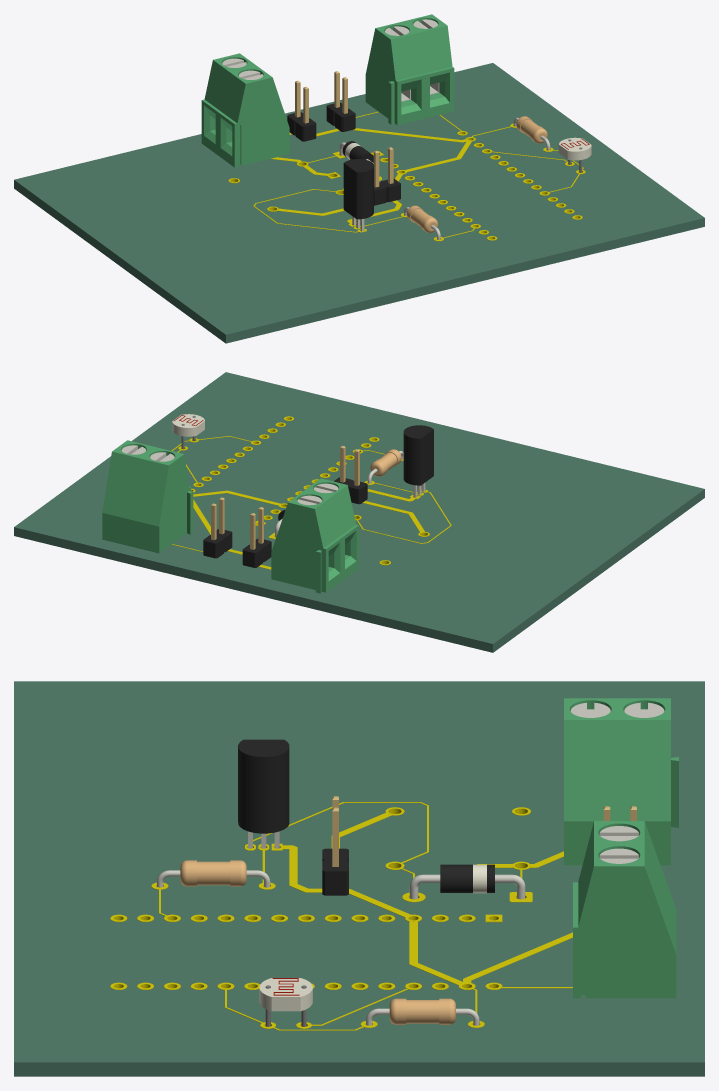
Rendered from project.glb.
3 renders of one model, top to bottom at view 1: azimuth 30°, elevation 25°; view 2: azimuth 150°, elevation 25°; view 3: azimuth 270°, elevation 25°, orthographic. The views are drawn at different scales.
Parts seen in each view (by area): view 1: =>[0:1:1:9], SW2, SW1, =>[0:1:1:8], Q1, J1, J2, LA1, R2, R1, R3; view 2: =>[0:1:1:9], SW2, SW1, =>[0:1:1:8], Q1, J2, J1, LA1, R2, R3; view 3: =>[0:1:1:9], SW2, SW1, =>[0:1:1:8], Q1, D1, R3, R1, R2, LA1.
Part boxes in pixels (x1,y1,x2,y2): =>[0:1:1:9]: (14,63,704,343); SW2: (365,14,454,125); SW1: (201,53,289,167); =>[0:1:1:8]: (228,111,585,241); Q1: (343,159,373,231); J1: (326,71,355,131); J2: (287,80,316,141); LA1: (373,147,400,205); R2: (558,137,591,172); R1: (513,116,550,150); R3: (404,205,440,239); =>[0:1:1:9]: (14,372,704,652); SW2: (102,440,193,553); SW1: (271,478,358,593); =>[0:1:1:8]: (171,416,451,569); Q1: (403,425,433,497); J2: (242,507,271,567); J1: (203,497,232,558); LA1: (334,445,367,504); R2: (172,414,204,449); R3: (367,449,403,483); =>[0:1:1:9]: (14,681,704,1076); SW2: (573,821,676,998); SW1: (564,698,678,865); =>[0:1:1:8]: (110,802,572,1030); Q1: (238,739,289,848); D1: (409,864,525,899); R3: (157,860,270,887); R1: (366,998,479,1025); R2: (259,978,312,1026); LA1: (322,796,348,895).
Bounding box in the file's own units: 0.0855 × 0.0173 × 0.0655.
